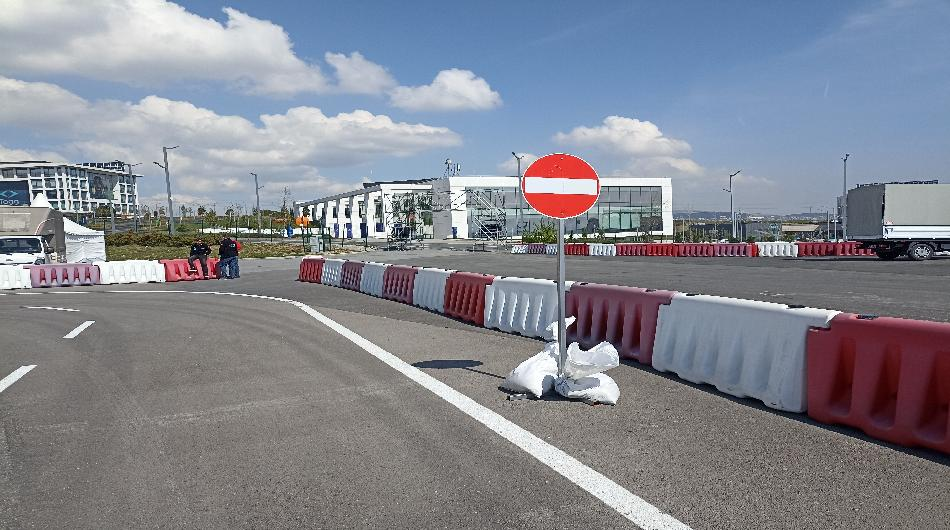girilmez: (519, 148, 600, 217)
